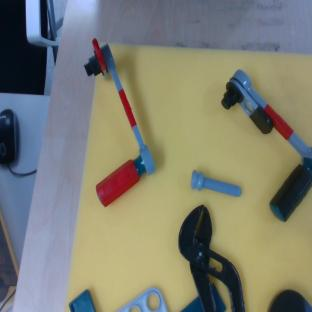pass: (48, 35, 162, 208)
